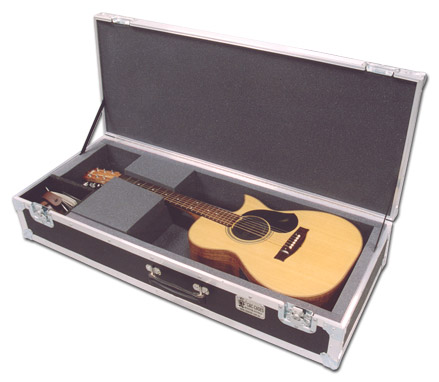guitar: (82, 167, 363, 307)
